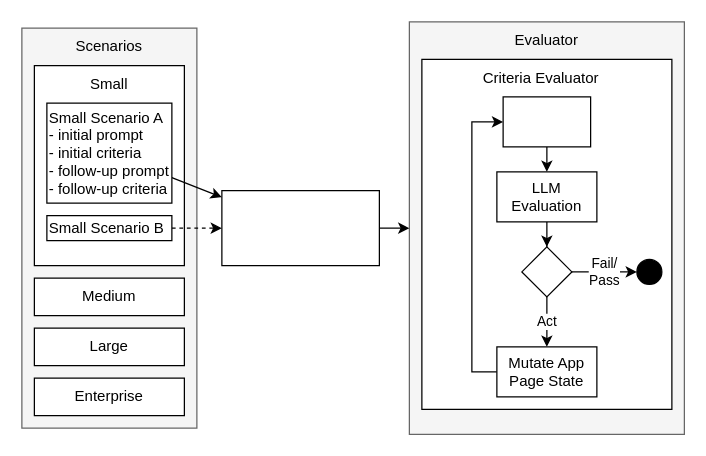
Image size: 706x456. Some labels were removed from this diagram. Here are the shapes that lost their labels. From the top down, the box of each, then its label:
(502, 96, 591, 147): Get App Page State
(221, 189, 379, 266): Runner (Prompts the agents)
